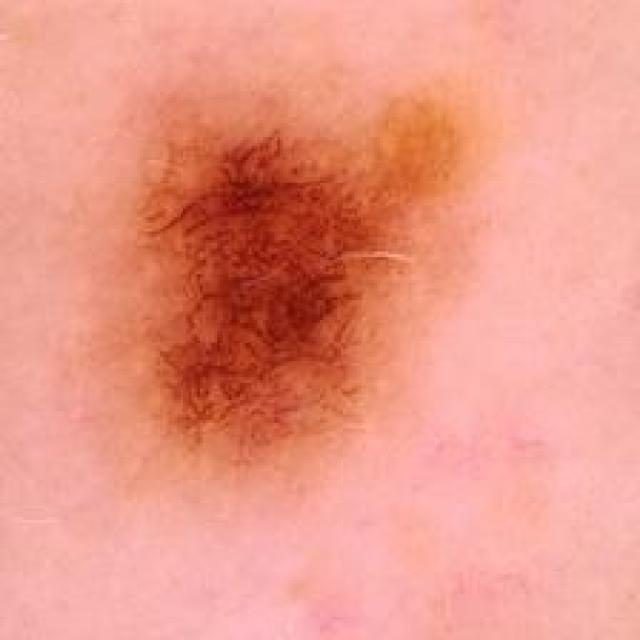Cancer: (121, 79, 472, 486)
